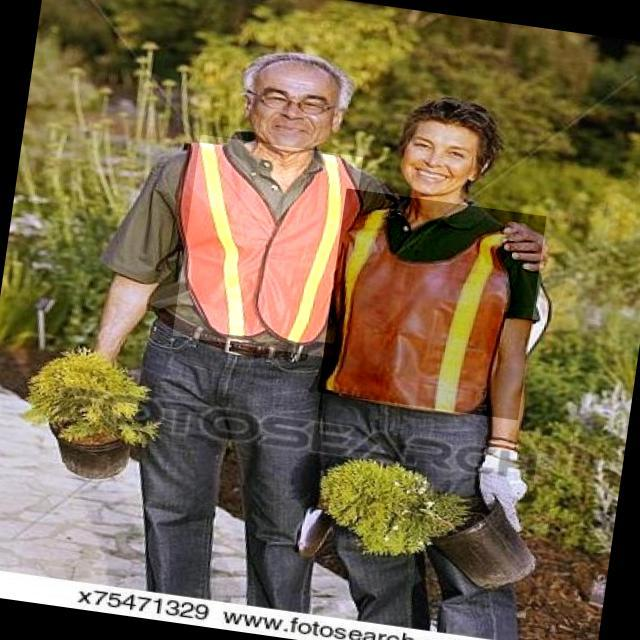Gloves: (464, 433, 540, 542)
Person: (28, 14, 368, 631), (371, 72, 608, 640)
Safety Vest: (318, 189, 547, 421), (172, 135, 363, 359)
bare-arms: (498, 210, 553, 277)
no-helmet: (243, 44, 352, 112), (410, 87, 496, 156)
